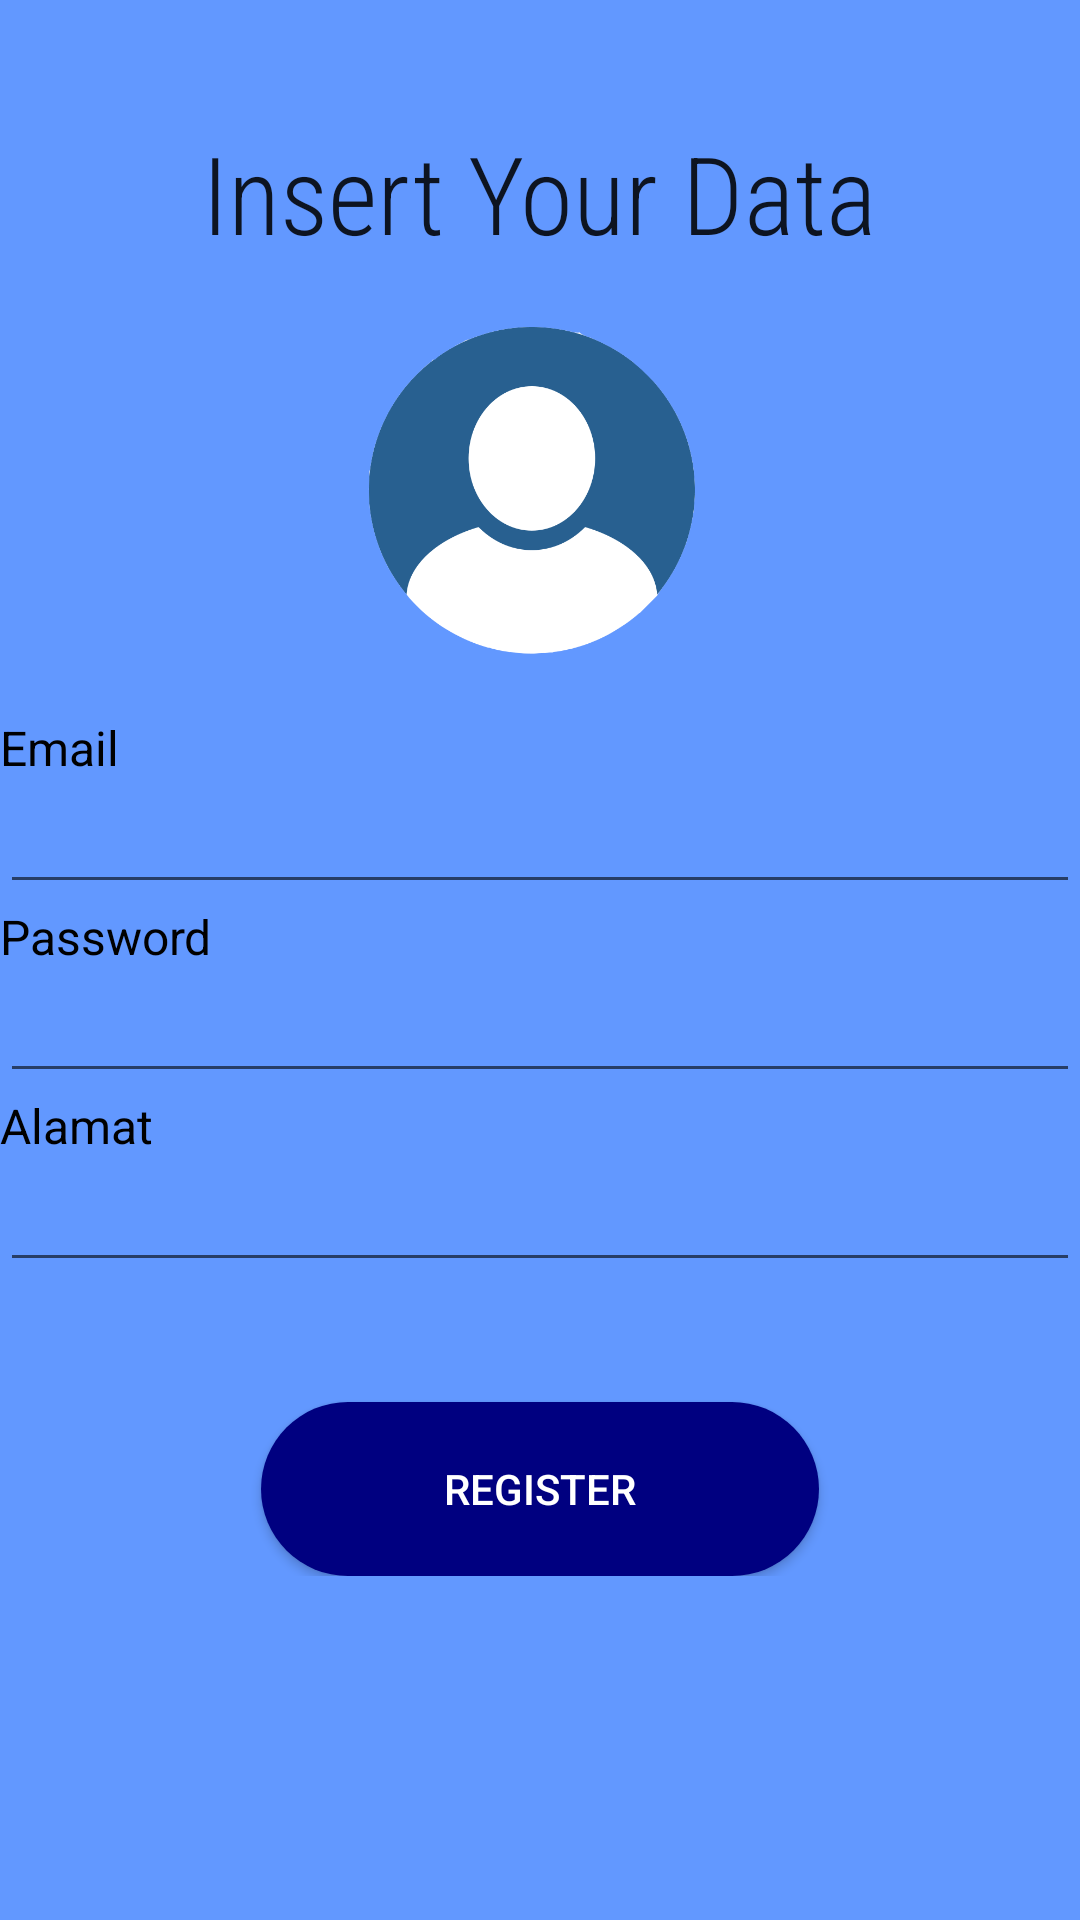

Where to tap for icons on this 1080x1920 app screen, as (x=x, y=y):
profiile: (x=532, y=490)
